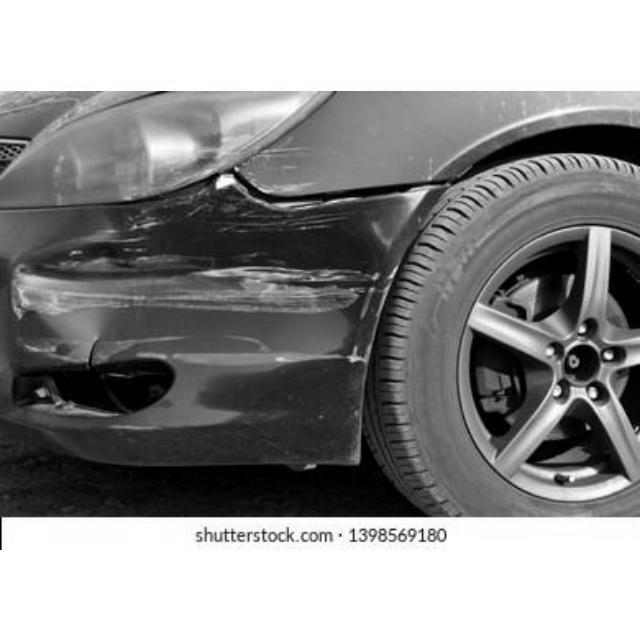front-bumper-dent: (0, 185, 452, 465)
